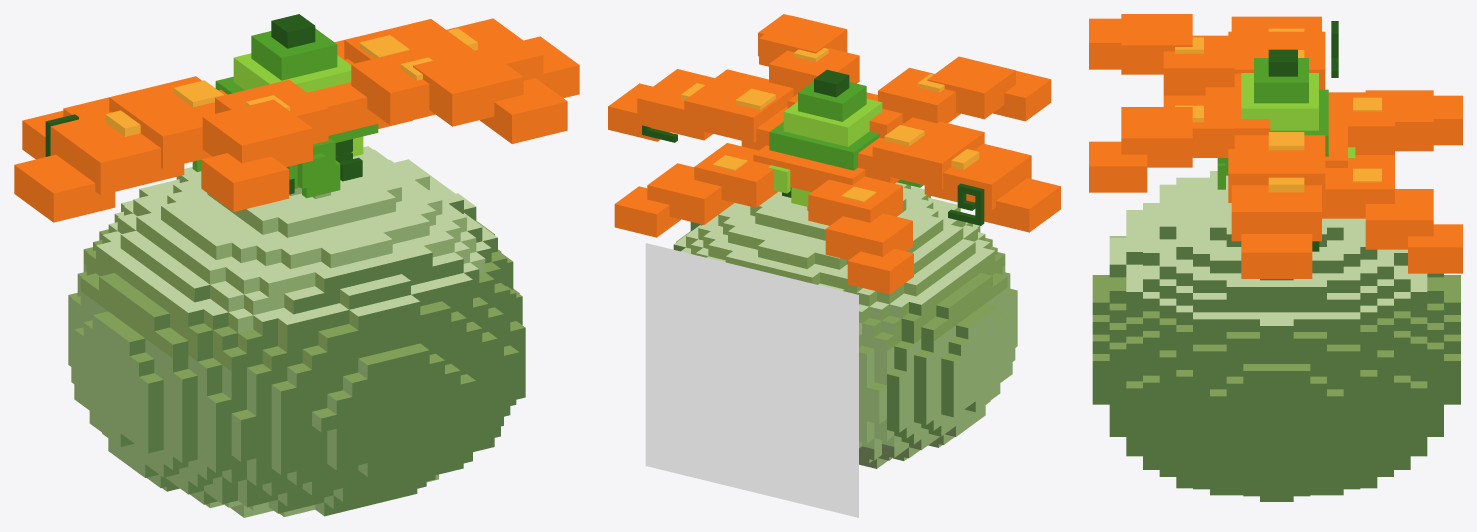
File: slime_dendro_large.glb
The picture shows the model from 3 angles, left to right: view 1: azimuth 30°, elevation 25°; view 2: azimuth 150°, elevation 25°; view 3: azimuth 270°, elevation 25°; orthographic projection. The views are drawn at different scales.
Visible parts, largest first — view 1: Shell, DendroGrowth; view 2: DendroGrowth, Face, Shell; view 3: Shell, DendroGrowth.
Boxes of the visible parts, box(x1,y1,x2,y2) form: Shell: box(68, 146, 525, 517); DendroGrowth: box(14, 14, 579, 222); DendroGrowth: box(608, 14, 1060, 294); Face: box(645, 243, 858, 517); Shell: box(673, 182, 1017, 468); Shell: box(1092, 171, 1460, 501); DendroGrowth: box(1089, 14, 1462, 278).
Bounding box in the file's own units: 2.72 × 2.2 × 1.85.
